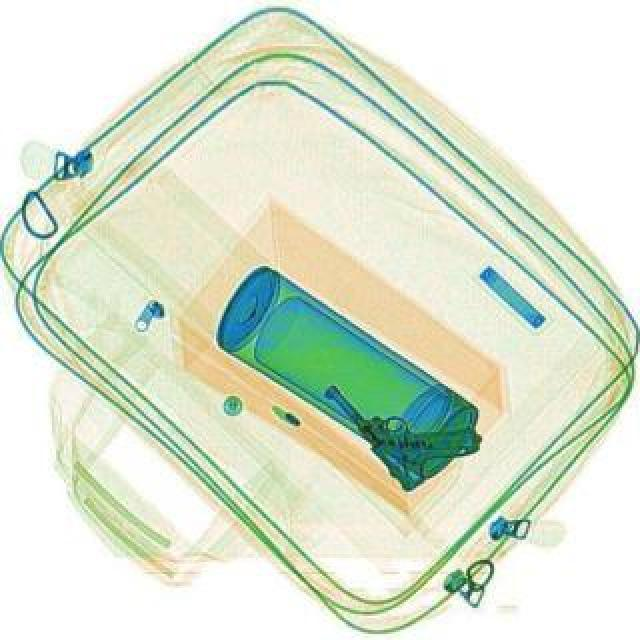gun: (320, 334, 486, 494)
